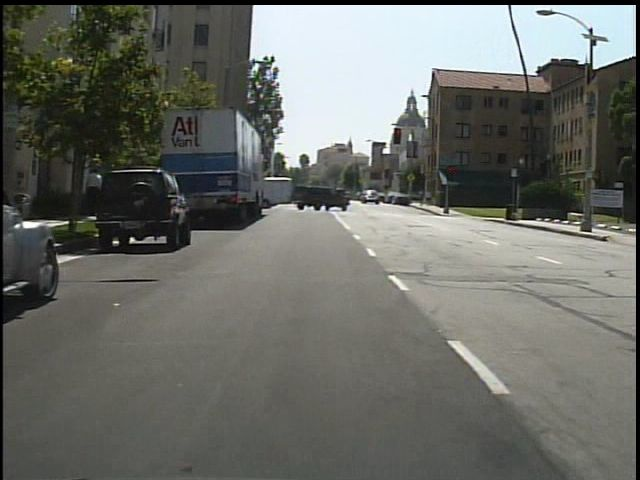person: (85, 164, 108, 216), (418, 188, 427, 209)
